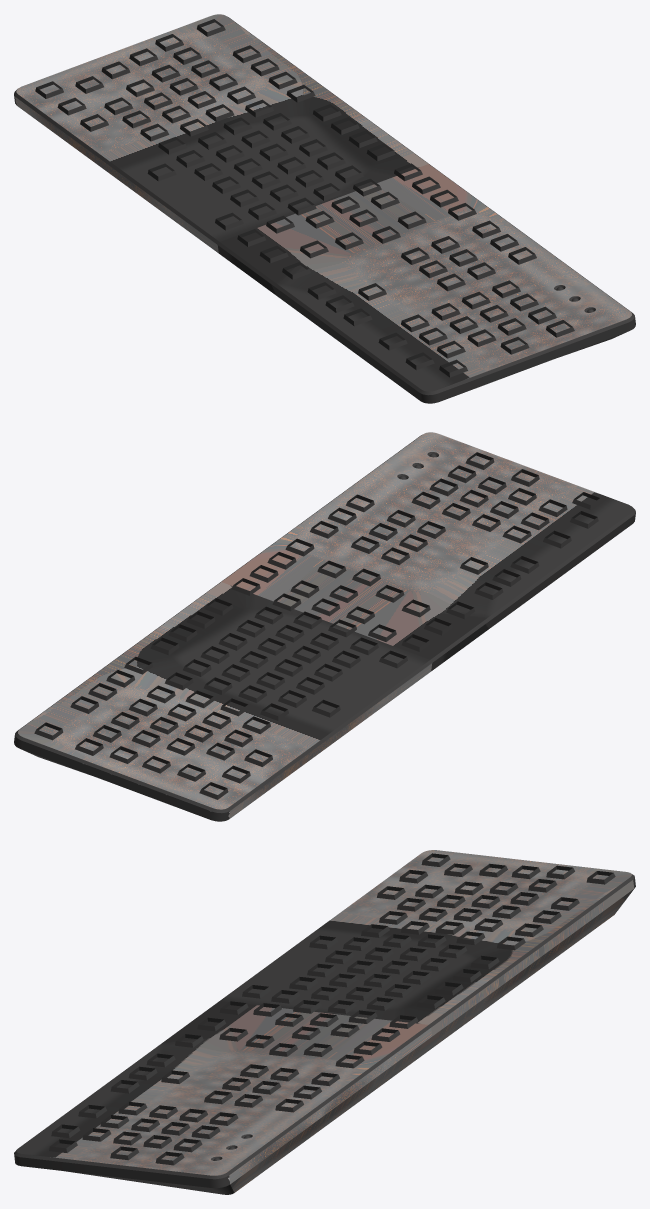
Rendered from Keyboard.fbx.
The picture shows the model from 3 angles, top to bottom: view 1: azimuth 30°, elevation 25°; view 2: azimuth 150°, elevation 25°; view 3: azimuth 330°, elevation 25°; orthographic projection.
Parts seen in each view (by area): view 1: keyboard; view 2: keyboard; view 3: keyboard.
Part boxes in pixels (x1=…): keyboard: x1=14, y1=14, x2=635, y2=403; keyboard: x1=14, y1=432, x2=635, y2=821; keyboard: x1=14, y1=850, x2=635, y2=1194.
Bounding box in the file's own units: 12.04 × 2.41 × 40.6.
